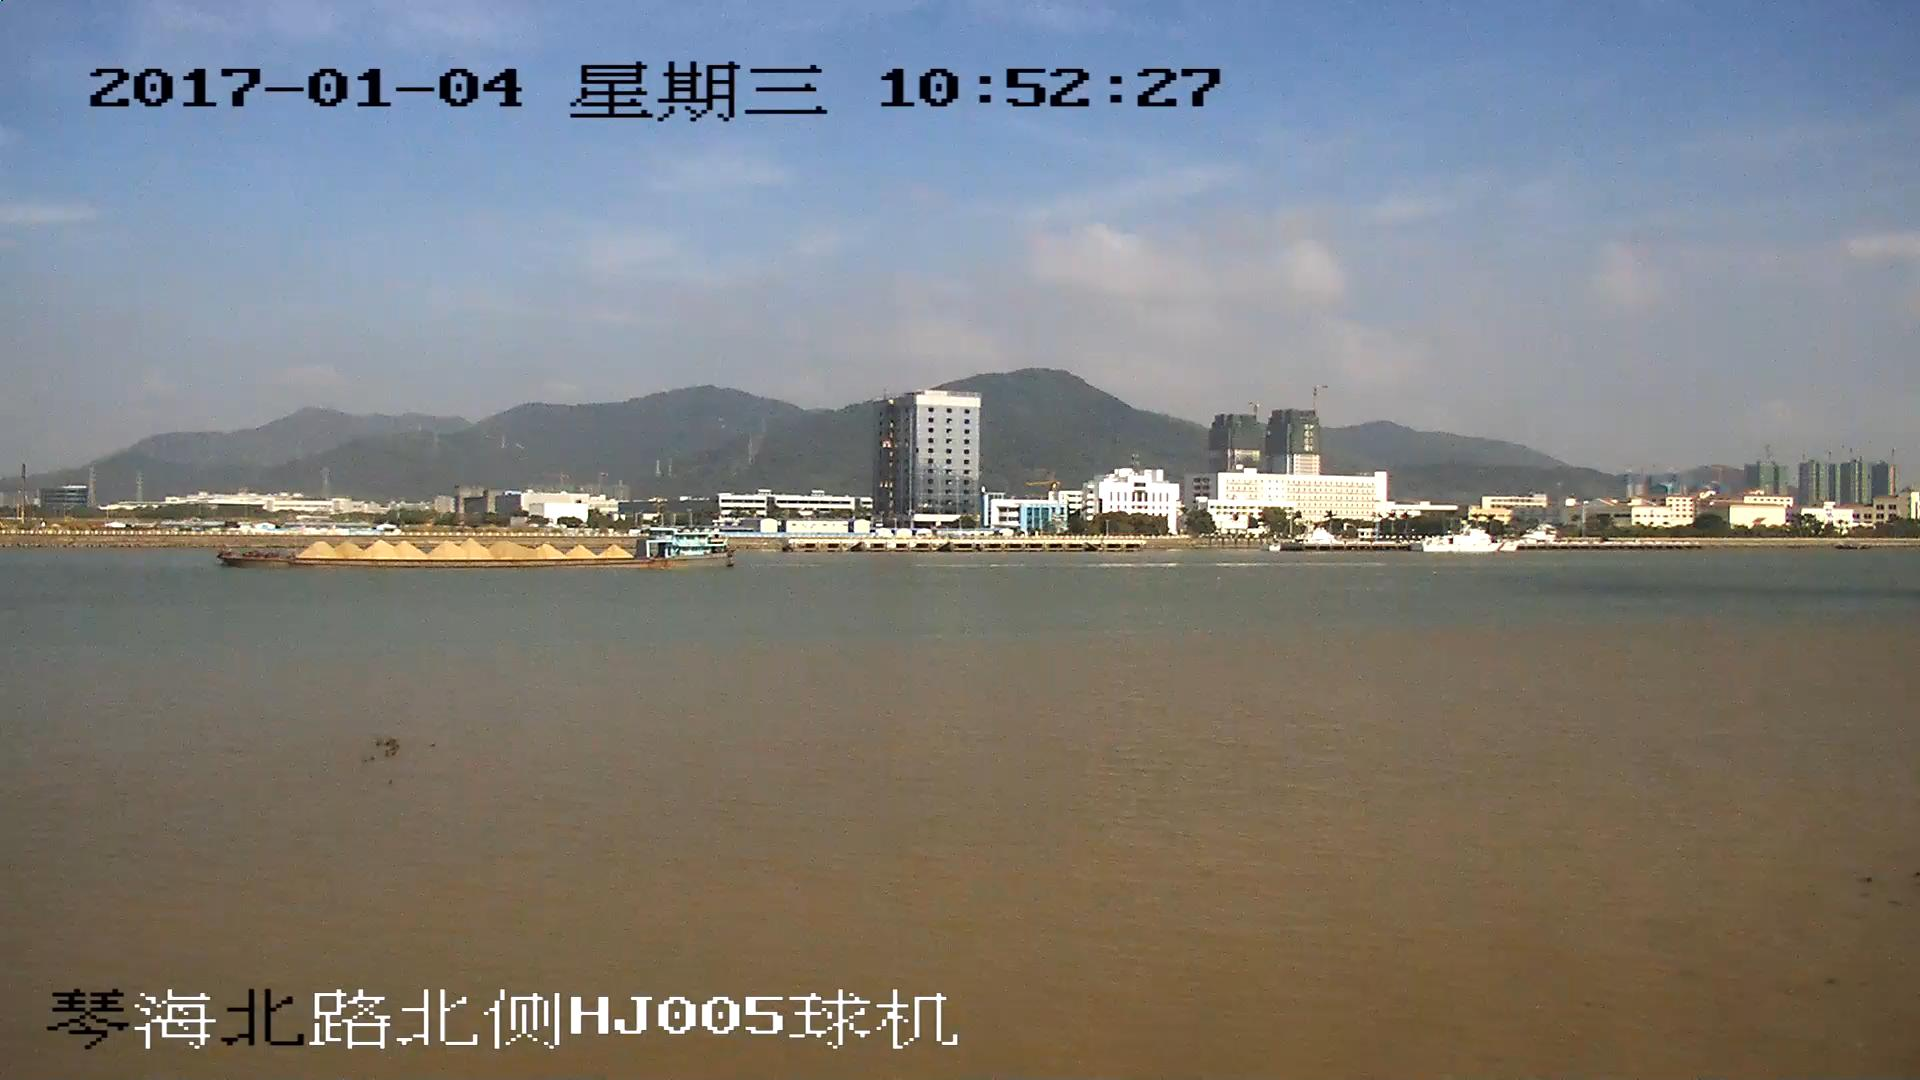ore carrier: (220, 528, 725, 572)
